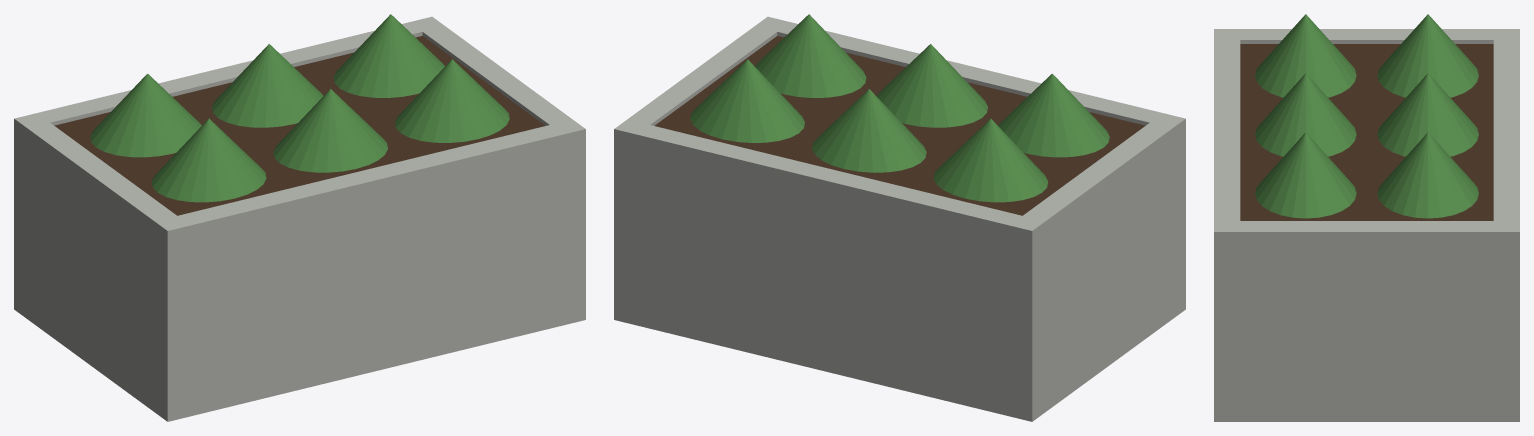
Rendered from prop_planter_campus_001.glb.
3 views of the same model, side by side, from view 1: azimuth 30°, elevation 25°; view 2: azimuth 150°, elevation 25°; view 3: azimuth 270°, elevation 25° (orthographic).
Parts seen in each view (by area): view 1: Wall_Front, Wall_Left, Bottom, Soil, Wall_Right, Foliage_0_0, Foliage_1_0, Foliage_2_0, Foliage_0_1, Foliage_1_1, Foliage_2_1, Wall_Back; view 2: Wall_Back, Wall_Left, Bottom, Soil, Wall_Right, Foliage_0_1, Foliage_1_1, Foliage_2_1, Foliage_0_0, Foliage_1_0, Foliage_2_0, Wall_Front; view 3: Wall_Right, Soil, Bottom, Foliage_2_0, Foliage_2_1, Wall_Back, Wall_Front, Foliage_0_0, Foliage_0_1, Foliage_1_0, Foliage_1_1, Wall_Left.
Part boxes in pixels (x1,y1,x2,y2): Wall_Front: [178, 125, 562, 392]; Wall_Left: [14, 113, 190, 397]; Bottom: [14, 286, 585, 421]; Soil: [54, 36, 545, 215]; Wall_Right: [409, 16, 585, 301]; Foliage_0_0: [151, 118, 266, 202]; Foliage_1_0: [273, 89, 387, 172]; Foliage_2_0: [395, 59, 509, 142]; Foliage_0_1: [90, 73, 201, 157]; Foliage_1_1: [212, 44, 323, 127]; Foliage_2_1: [333, 14, 445, 97]; Wall_Back: [37, 22, 422, 125]; Wall_Back: [637, 125, 1021, 392]; Wall_Left: [1009, 113, 1185, 397]; Bottom: [614, 286, 1185, 421]; Soil: [654, 36, 1145, 215]; Wall_Right: [614, 16, 790, 301]; Foliage_0_1: [933, 118, 1048, 202]; Foliage_1_1: [812, 89, 926, 172]; Foliage_2_1: [690, 59, 804, 142]; Foliage_0_0: [998, 73, 1109, 157]; Foliage_1_0: [876, 44, 987, 127]; Foliage_2_0: [754, 14, 866, 97]; Wall_Front: [777, 22, 1162, 125]; Wall_Right: [1214, 221, 1519, 398]; Soil: [1240, 44, 1493, 220]; Bottom: [1214, 398, 1519, 421]; Foliage_2_0: [1255, 132, 1356, 218]; Foliage_2_1: [1377, 132, 1478, 218]; Wall_Back: [1493, 40, 1519, 220]; Wall_Front: [1214, 40, 1240, 220]; Foliage_0_0: [1255, 14, 1356, 97]; Foliage_0_1: [1377, 14, 1478, 97]; Foliage_1_0: [1255, 73, 1356, 156]; Foliage_1_1: [1377, 73, 1478, 156]; Wall_Left: [1214, 29, 1519, 43].
Bounding box in the file's own units: 1.1 × 0.625 × 0.7.
